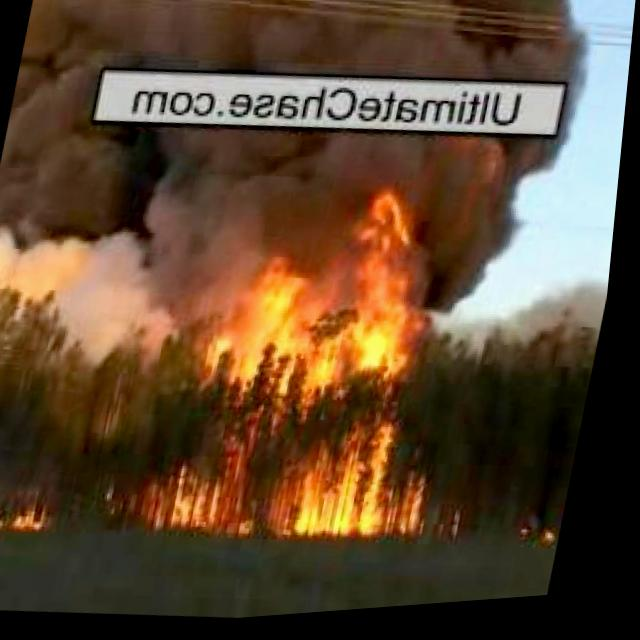helmet: (106, 380, 474, 559), (184, 170, 438, 413), (0, 484, 68, 538)
no_helmet: (16, 0, 604, 122), (0, 111, 225, 366)
